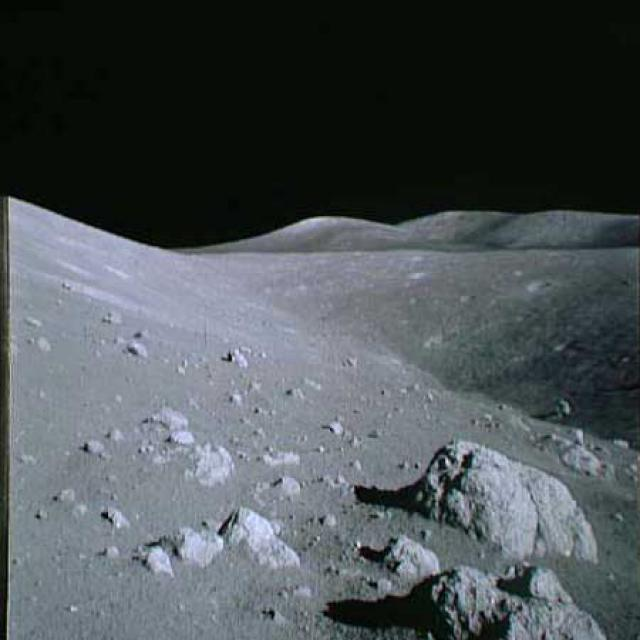rock: (398, 434, 614, 564), (415, 559, 609, 639), (223, 501, 303, 571), (370, 526, 442, 580), (510, 558, 576, 606), (143, 388, 193, 451), (167, 522, 228, 568), (187, 441, 235, 493), (559, 427, 606, 480), (131, 540, 174, 582), (260, 440, 302, 475), (95, 501, 132, 537), (262, 475, 306, 501), (220, 344, 255, 374), (77, 432, 107, 463), (277, 376, 307, 404), (124, 330, 150, 359), (318, 410, 344, 437)
